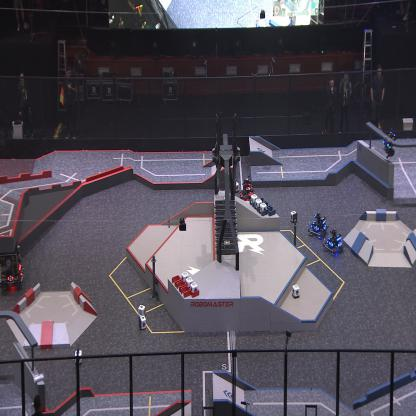car: (0, 240, 26, 290), (322, 226, 347, 256), (308, 211, 328, 239), (238, 176, 256, 205)
